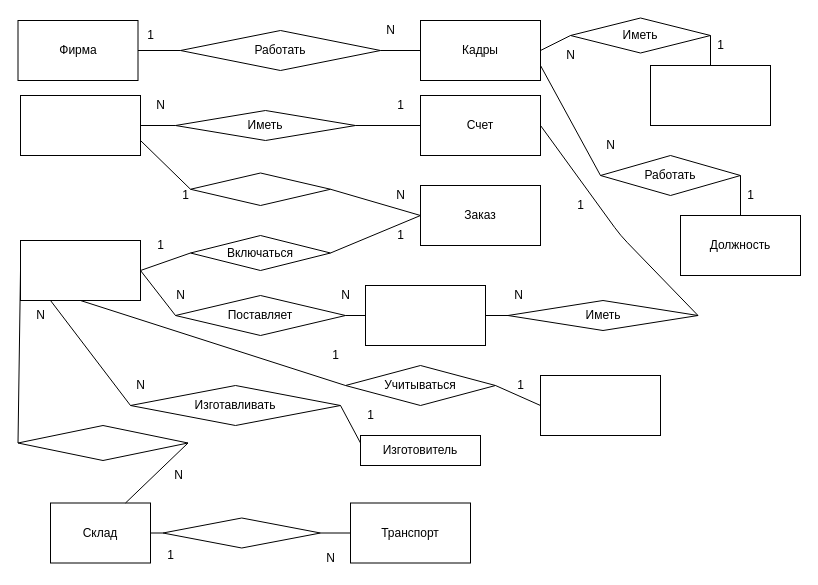
This 818x585 diagram has some shape labels left out. Here are the shapes that lost their labels. From the top down, the centre of each, then its label:
At (710,95): "Образование".
At (80,125): "Клиент".
At (260,189): "Заказывать".
At (80,270): "Товар".
At (425,315): "Поставщик".
At (600,405): "Накладная".
At (102,442): "Храниться".
At (241,532): "Принадлежать".
